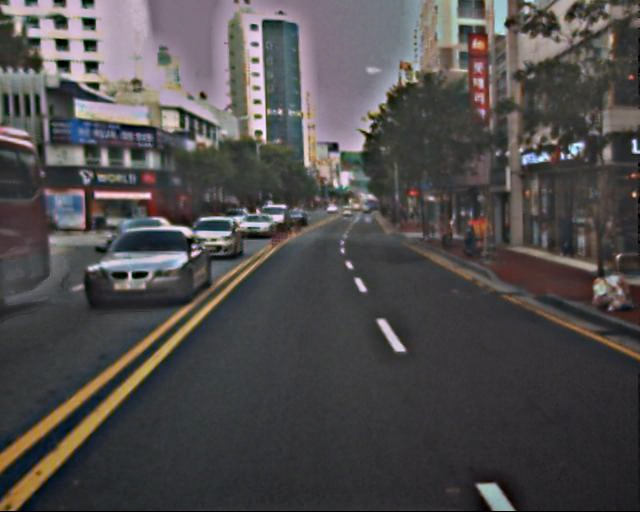person: (557, 208, 579, 258)
